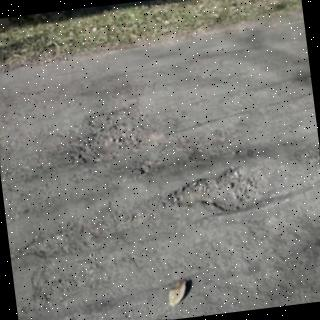pothole: (22, 202, 147, 257), (71, 102, 164, 163), (168, 167, 261, 211), (30, 267, 82, 310)
